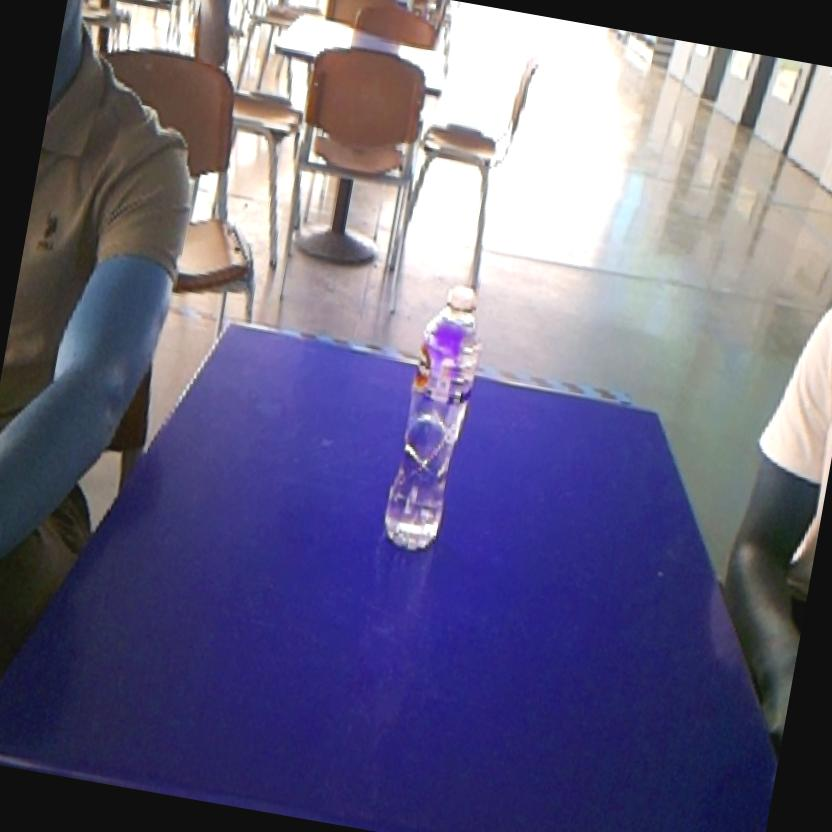no_cap: (368, 268, 502, 568)
